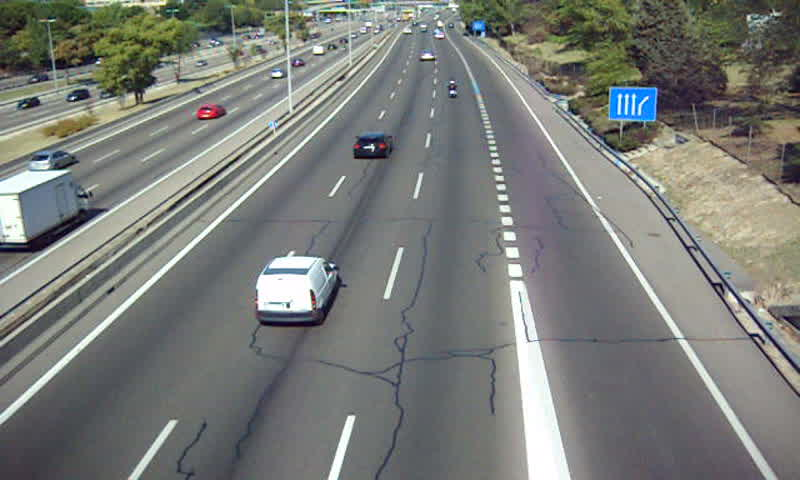car: (350, 134, 392, 162), (419, 52, 435, 63)
motorcycle: (445, 80, 460, 100)
van: (253, 256, 340, 324)
